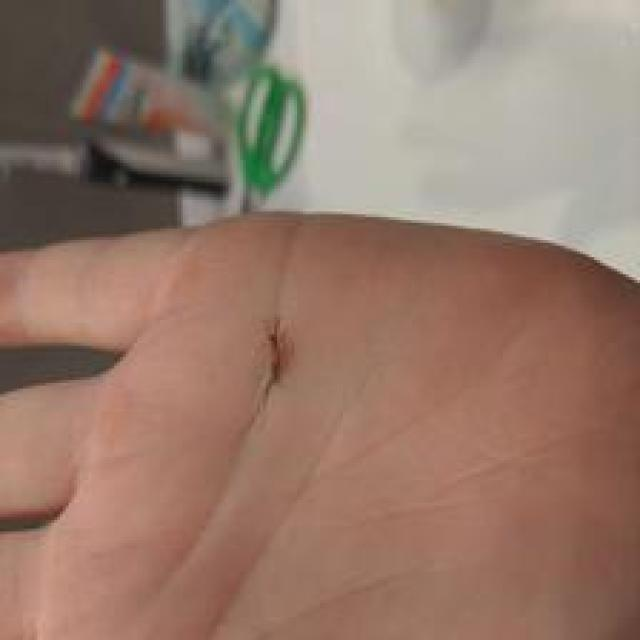Culex: (64, 0, 307, 214)
